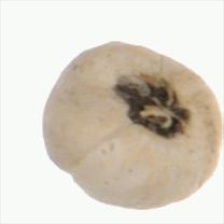L4: (40, 40, 221, 209)
